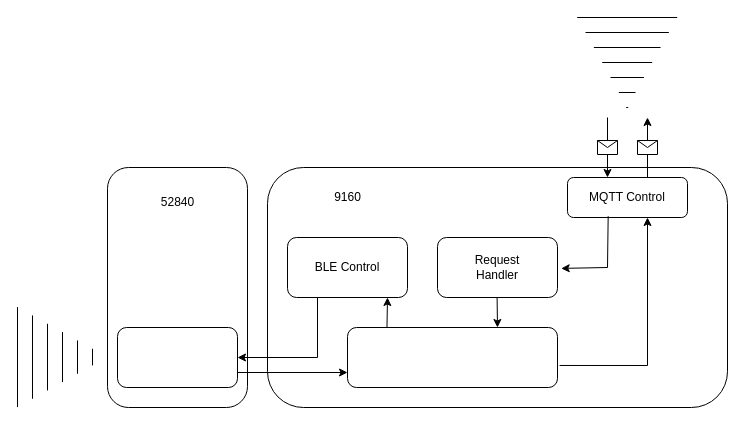
Some shapes in this 745 by 425 pixel diagram are drawn without their labels. The centre of each missing label's shape, as x and y in pixels:
"Aggregator" goes at [452,357].
"BLE Transmit" goes at [177,357].
